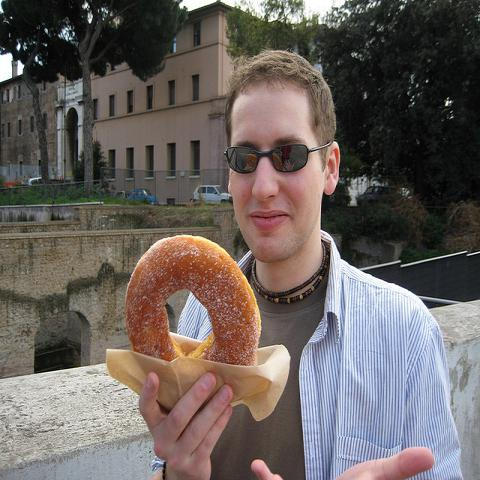car: (189, 184, 233, 204), (127, 189, 160, 204)
